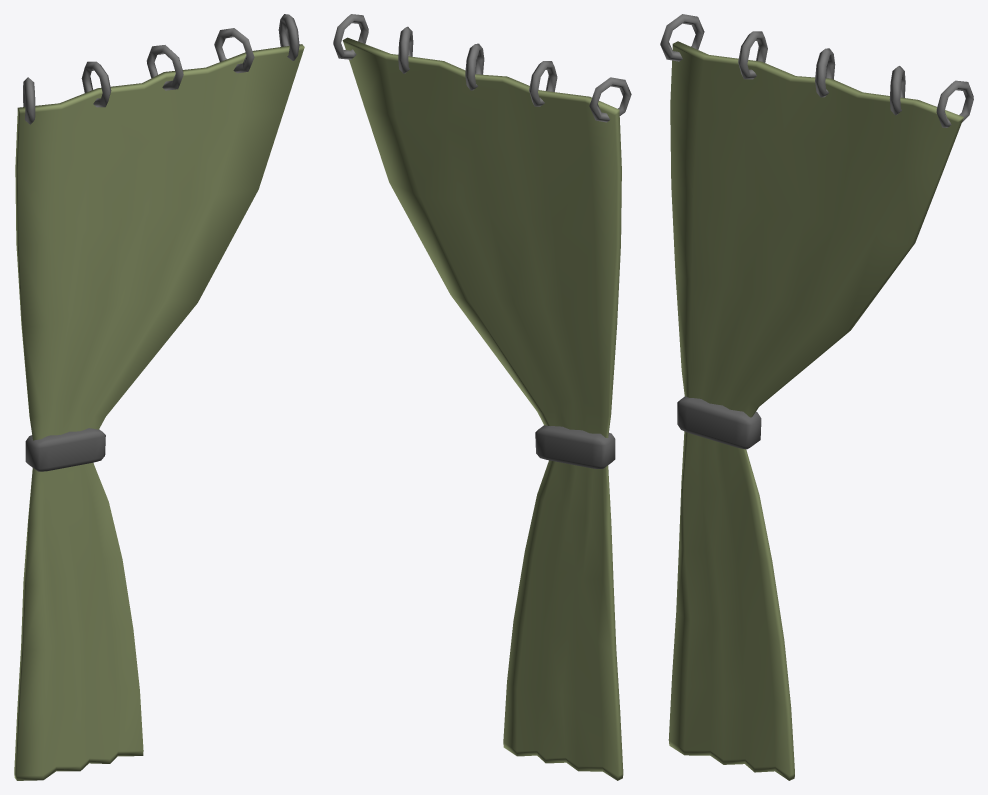
Rendered from curtain_030.fbx.
The picture shows the model from 3 angles, left to right: view 1: azimuth 30°, elevation 25°; view 2: azimuth 150°, elevation 25°; view 3: azimuth 330°, elevation 25°; orthographic projection. The views are drawn at different scales.
Visible parts, largest first — view 1: curtain_030; view 2: curtain_030; view 3: curtain_030.
Boxes of the visible parts, x1,y1,x2,y2 form: curtain_030: (14,14,304,780); curtain_030: (333,14,631,780); curtain_030: (660,14,973,780).
Bounding box in the file's own units: 147 × 22.83 × 348.
